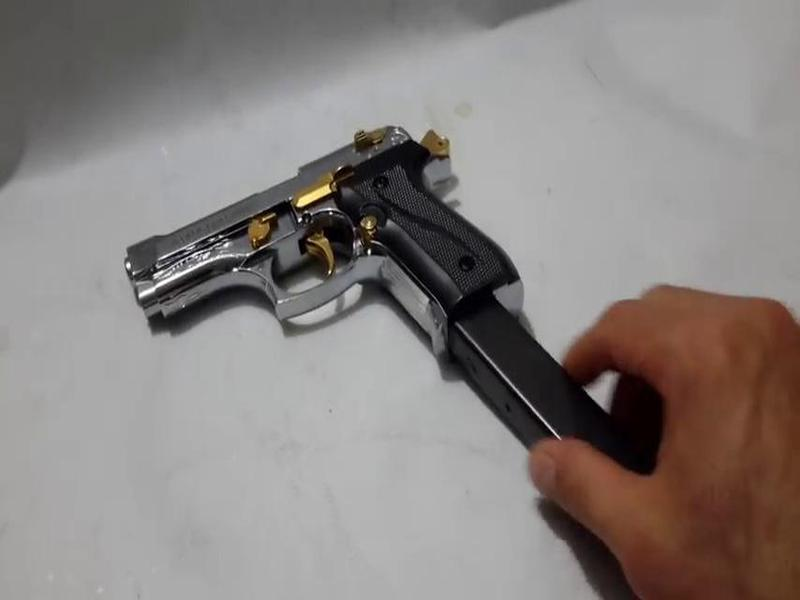Pistola: (105, 126, 527, 331)
